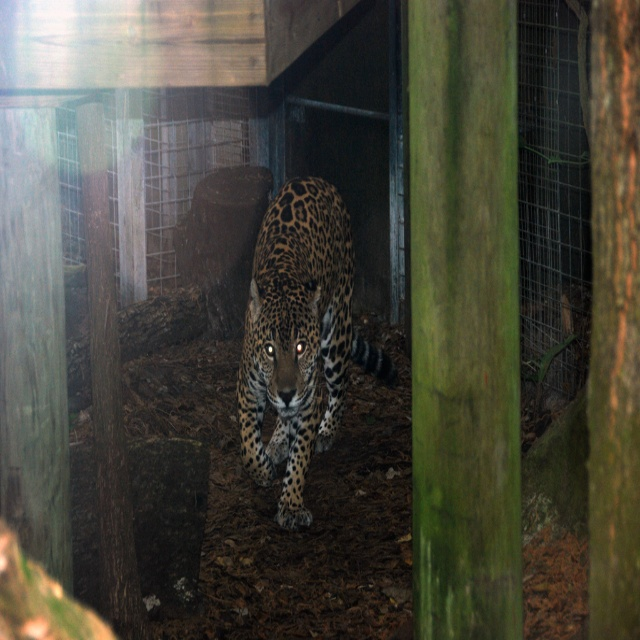Jaguar: (236, 174, 401, 529)
